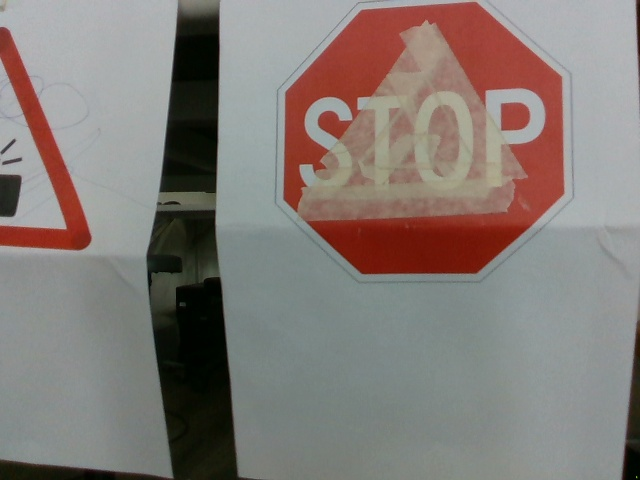stop: (271, 2, 576, 284)
